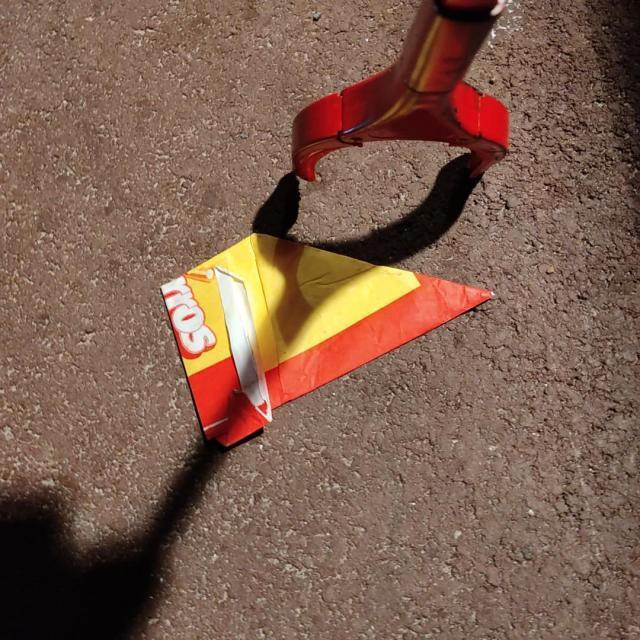Paper: (159, 227, 497, 452)
